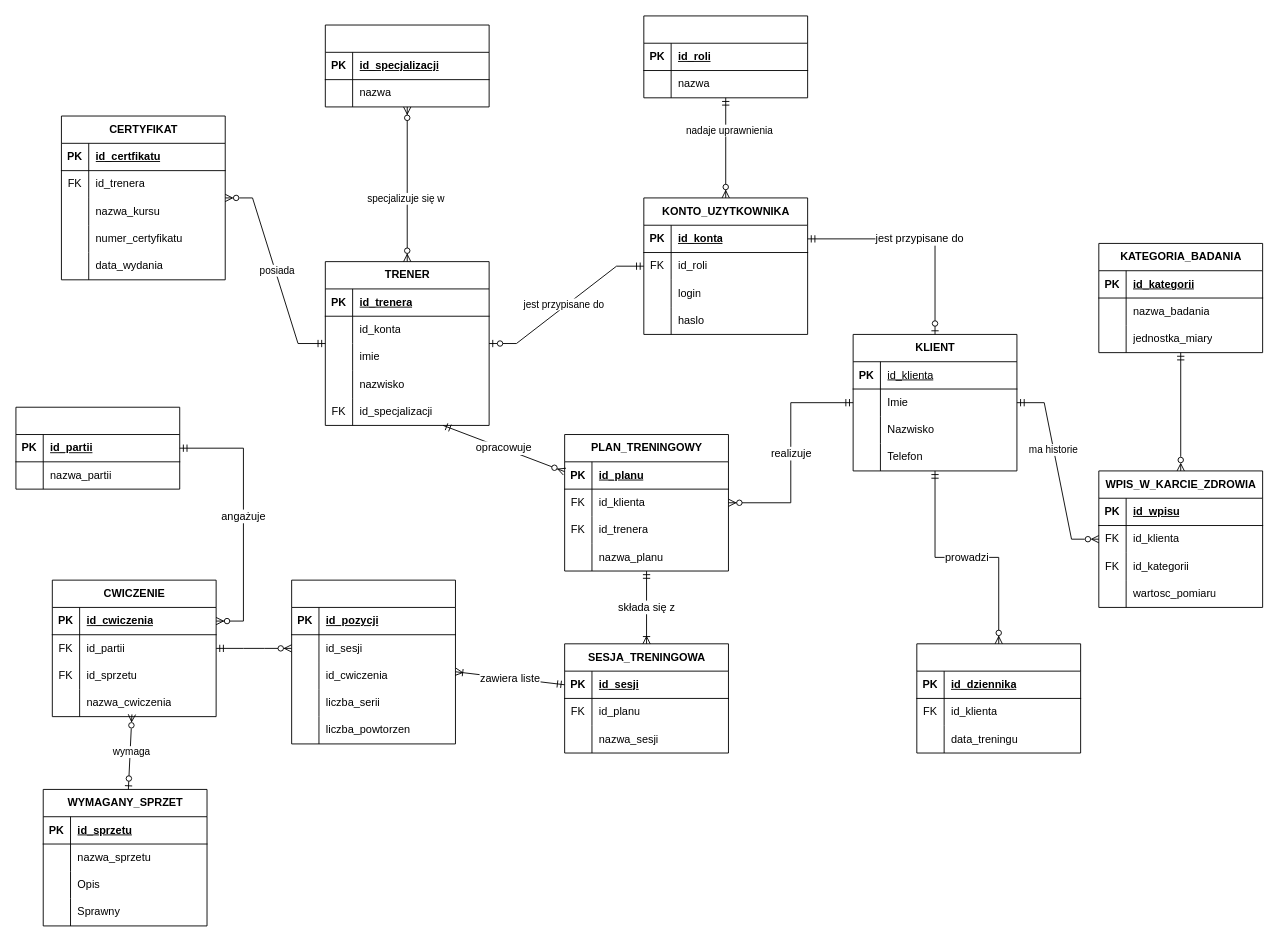
The diagram is 1279 pixels wide and 942 high, and some of its shapes have lost their labels. The shapes that lost their labels are listed below. From the top down, each one's box as (x1, y1, x2, y2) in pixels, then its label:
(324, 24, 489, 107): SPECJALIZACJA
(643, 15, 808, 98): ROLA_SYSTEMOWA
(15, 406, 180, 489): PARTIA_CIALA
(291, 579, 455, 744): POZYCJA_W_SESJI
(916, 643, 1081, 753): DZIENNIK_AKTYWNOSCI
